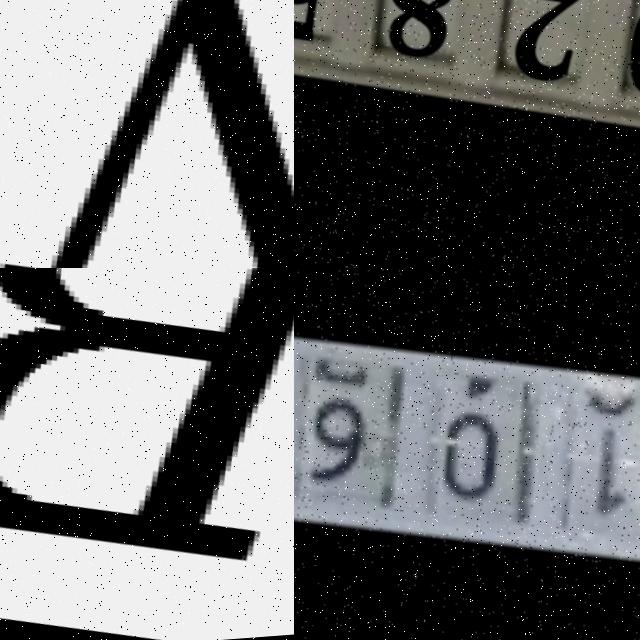0: (417, 399, 518, 517), (596, 0, 640, 126)
1: (557, 424, 640, 538)
2: (479, 0, 601, 106)
5: (294, 0, 351, 58)
6: (294, 387, 383, 502)
8: (355, 0, 476, 79)
N: (0, 0, 294, 268)
